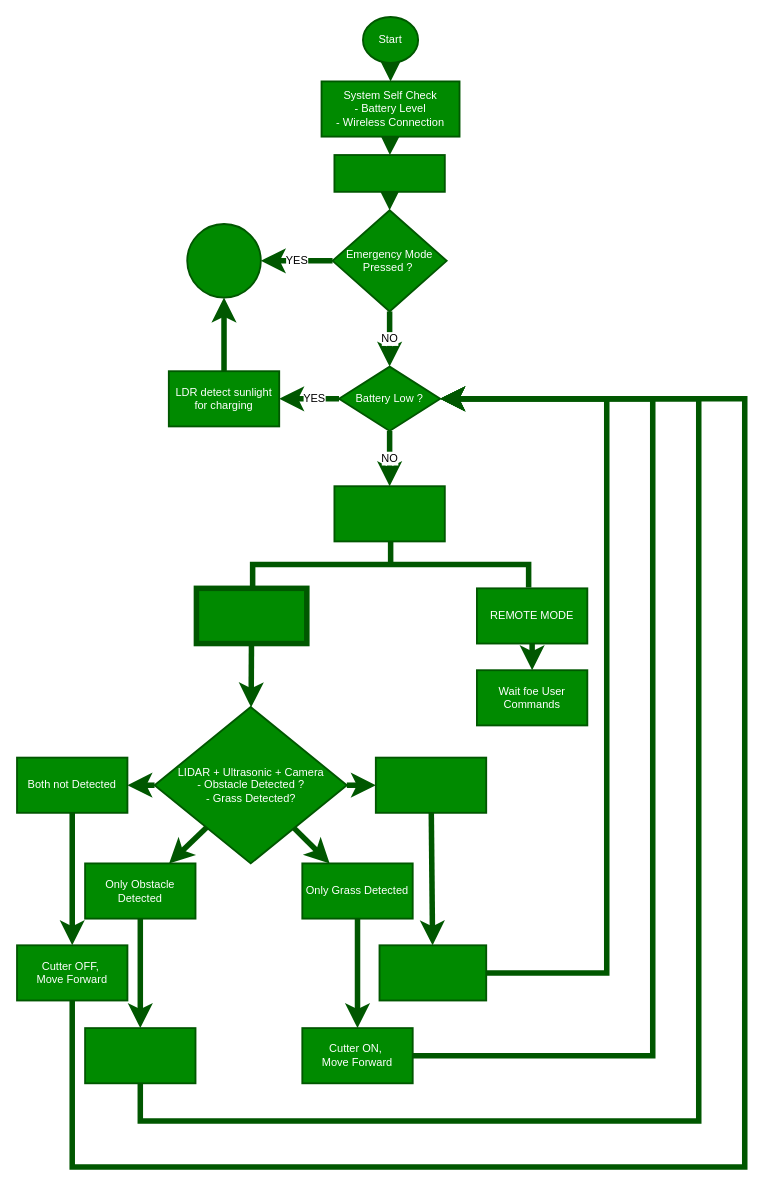
The diagram is 772 pixels wide and 1194 high, and some of its shapes have lost their labels. The centre of each missing label's shape, as x and y in pixels:
AUTO MODE: pixel 251 615
Both Detected: pixel 430 784
Cutter OFF, Move Left to Avoid: pixel 140 1055
Cutter ON, Move Left to Avoid: pixel 432 972
LCD Print Status: pixel 389 173
Select MODE: pixel 389 513
STOP: pixel 223 260
